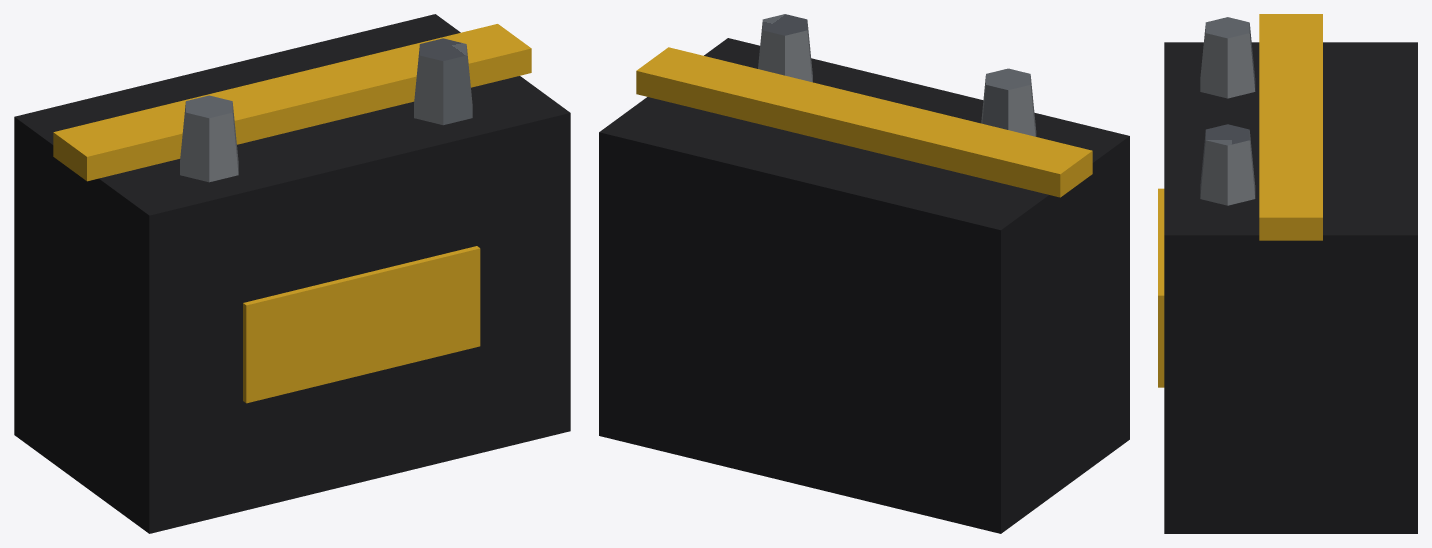
The model's file is repair_parts__battery.glb.
3 views of the same model, side by side, from view 1: azimuth 30°, elevation 25°; view 2: azimuth 150°, elevation 25°; view 3: azimuth 270°, elevation 25° (orthographic). The views are drawn at different scales.
Visible parts, largest first — view 1: _MeshInstance3D_389, _MeshInstance3D_391, _MeshInstance3D_390; view 2: _MeshInstance3D_389, _MeshInstance3D_391, _MeshInstance3D_390; view 3: _MeshInstance3D_389, _MeshInstance3D_391, _MeshInstance3D_390.
Part boxes in pixels (box(x1,y1,x2,y2)): _MeshInstance3D_389: box(14, 14, 570, 533); _MeshInstance3D_391: box(53, 24, 531, 403); _MeshInstance3D_390: box(180, 38, 472, 182); _MeshInstance3D_389: box(599, 38, 1129, 533); _MeshInstance3D_391: box(636, 47, 1092, 197); _MeshInstance3D_390: box(758, 14, 1036, 136); _MeshInstance3D_389: box(1164, 42, 1417, 533); _MeshInstance3D_391: box(1158, 14, 1322, 387); _MeshInstance3D_390: box(1200, 17, 1255, 205).
Bounding box in the file's own units: 0.38 × 0.31 × 0.205.
Materials: 3 (1 with a texture image).
